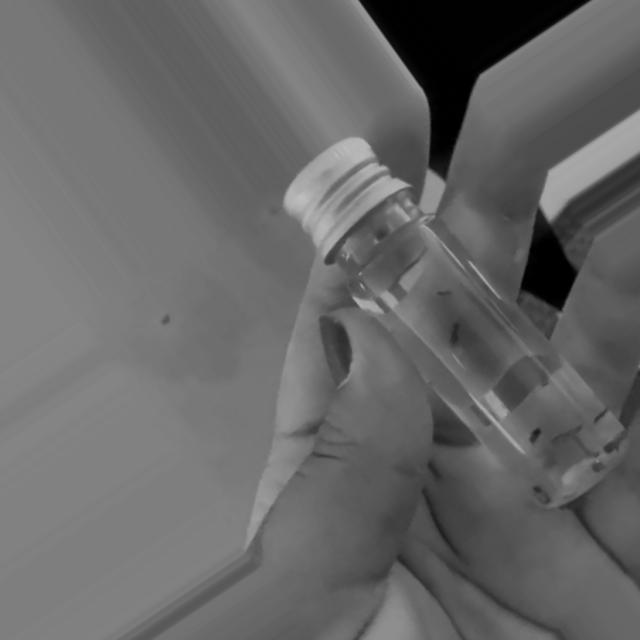larvas: (604, 431, 628, 454), (553, 425, 581, 441), (574, 436, 594, 457), (532, 484, 550, 505), (448, 321, 462, 344), (592, 456, 606, 473), (592, 409, 607, 424), (531, 429, 541, 444), (433, 290, 452, 296)
